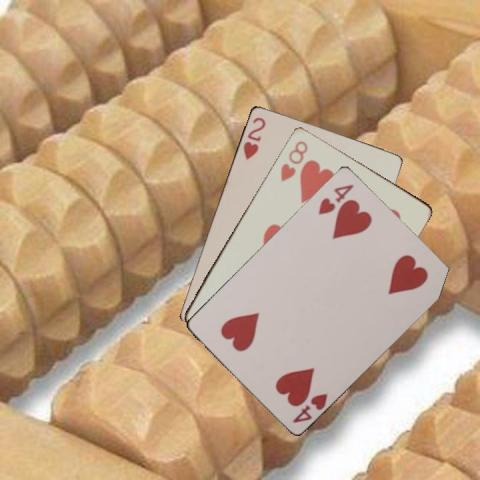2h: (240, 113, 267, 161)
4h: (315, 181, 355, 216), (290, 390, 330, 424)
8h: (278, 136, 310, 182)
